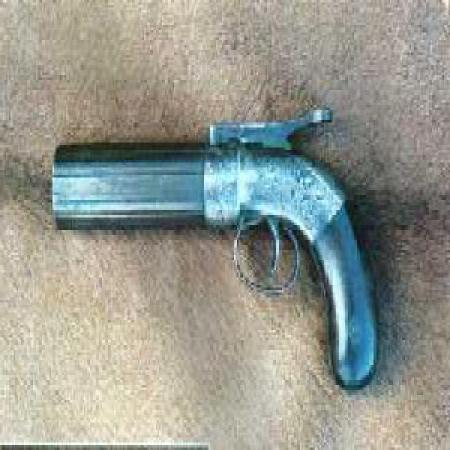Pistol: (49, 98, 382, 378)
